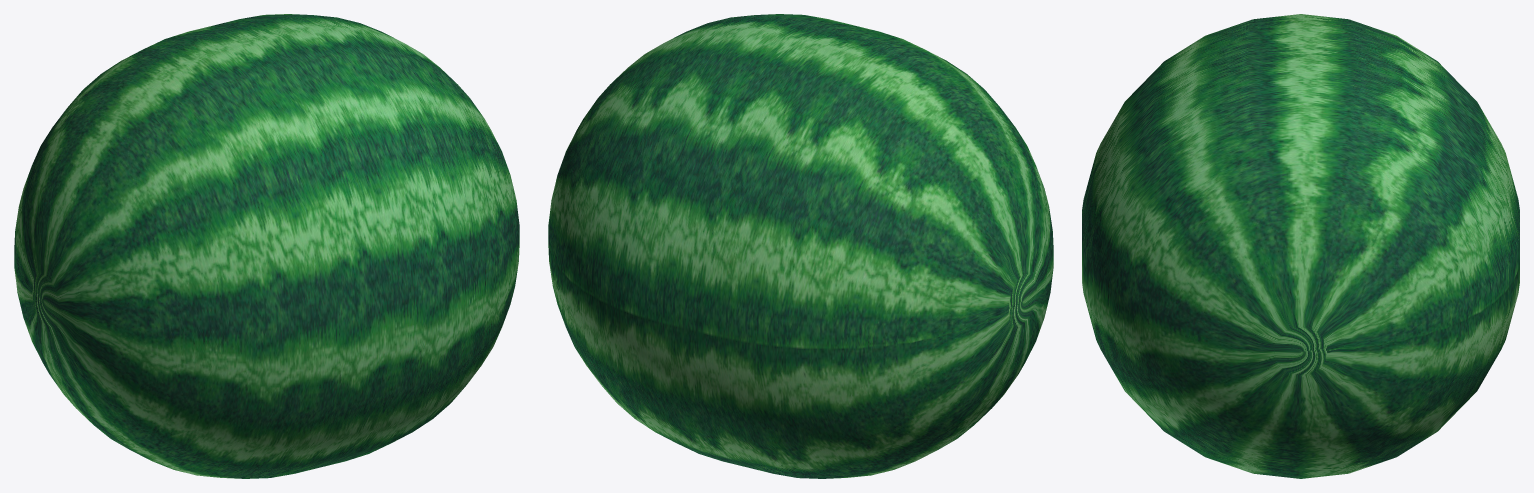
The model's file is watermelon.obj.
The picture shows the model from 3 angles, left to right: view 1: azimuth 30°, elevation 25°; view 2: azimuth 150°, elevation 25°; view 3: azimuth 270°, elevation 25°; orthographic projection. The views are drawn at different scales.
Visible parts, largest first — view 1: Capsule001; view 2: Capsule001; view 3: Capsule001.
Part boxes in pixels (x1,y1,x2,y2): Capsule001: (14, 14, 519, 478); Capsule001: (548, 14, 1053, 478); Capsule001: (1082, 14, 1519, 478).
Size of the model in its own units: 48.67 by 43.05 by 42.73.
